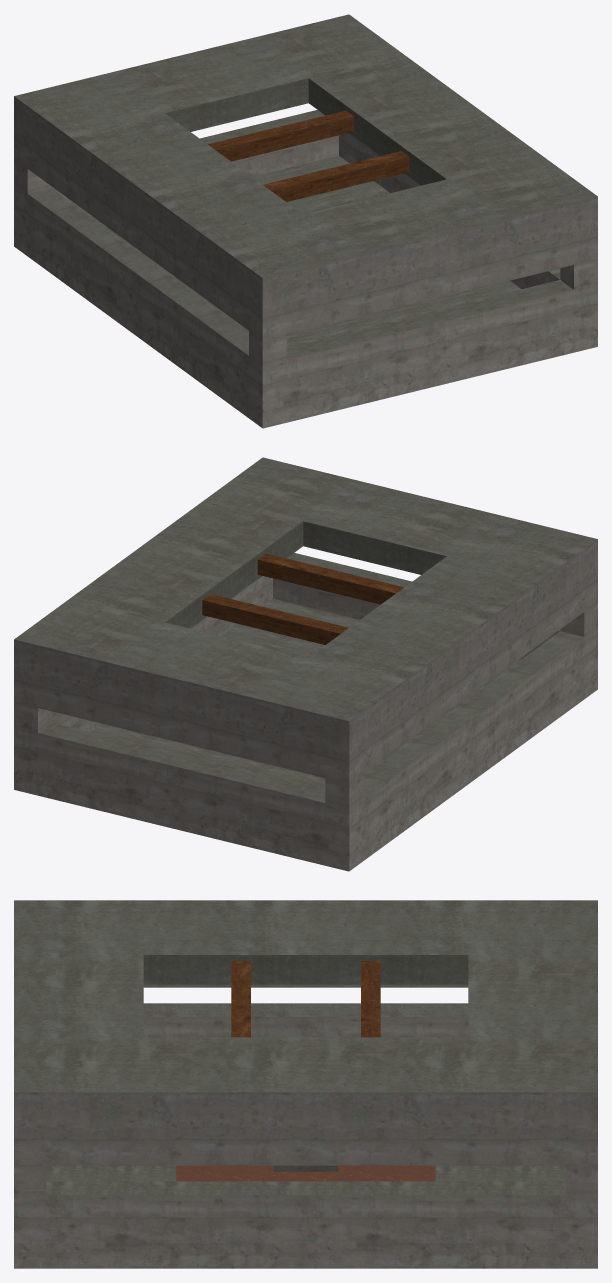
File: LightingRoom.glb
The picture shows the model from 3 angles, top to bottom: view 1: azimuth 30°, elevation 25°; view 2: azimuth 150°, elevation 25°; view 3: azimuth 270°, elevation 25°; orthographic projection. The views are drawn at different scales.
Visible parts, largest first — view 1: Cube.001; view 2: Cube.001; view 3: Cube.001.
Part boxes in pixels (x1,y1,x2,y2): Cube.001: [14, 14, 597, 428]; Cube.001: [14, 457, 597, 871]; Cube.001: [14, 900, 597, 1268].
Size of the model in its own units: 14 by 6 by 18.
4 materials, 4 textured.
